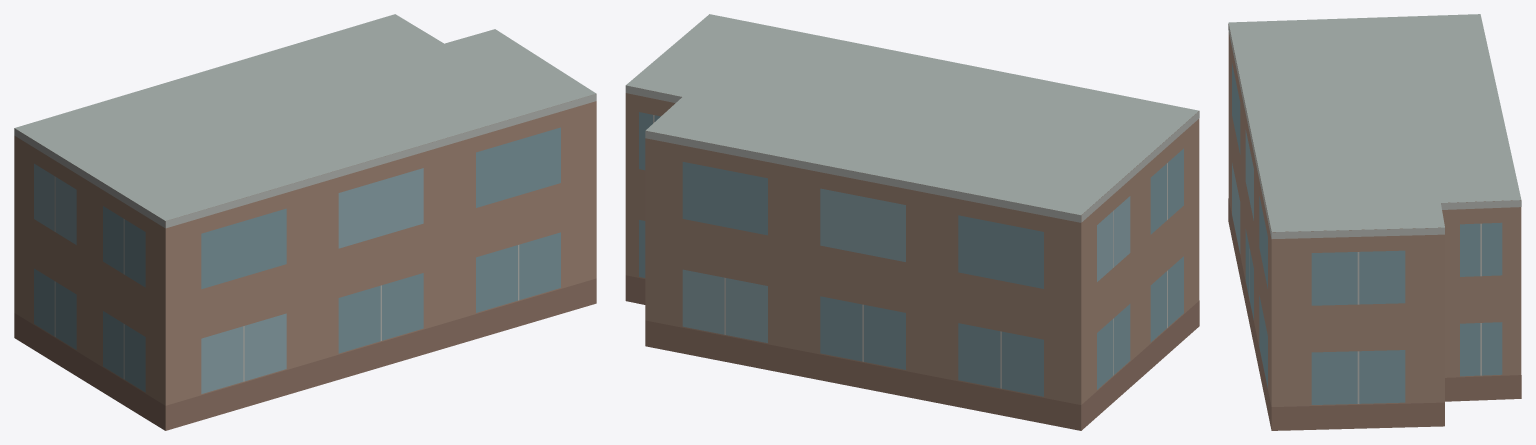
Rendered from survey-upis-32907345.glb.
The picture shows the model from 3 angles, left to right: view 1: azimuth 30°, elevation 25°; view 2: azimuth 150°, elevation 25°; view 3: azimuth 270°, elevation 25°; orthographic projection. The views are drawn at different scales.
Parts seen in each view (by area): view 1: survey-upis-32907345.tmp; view 2: survey-upis-32907345.tmp; view 3: survey-upis-32907345.tmp.
Part boxes in pixels (<box>): survey-upis-32907345.tmp: <box>14,14,596,430</box>; survey-upis-32907345.tmp: <box>625,14,1199,430</box>; survey-upis-32907345.tmp: <box>1228,14,1521,430</box>.
Size of the model in its own units: 16.25 by 6.9 by 9.23.
